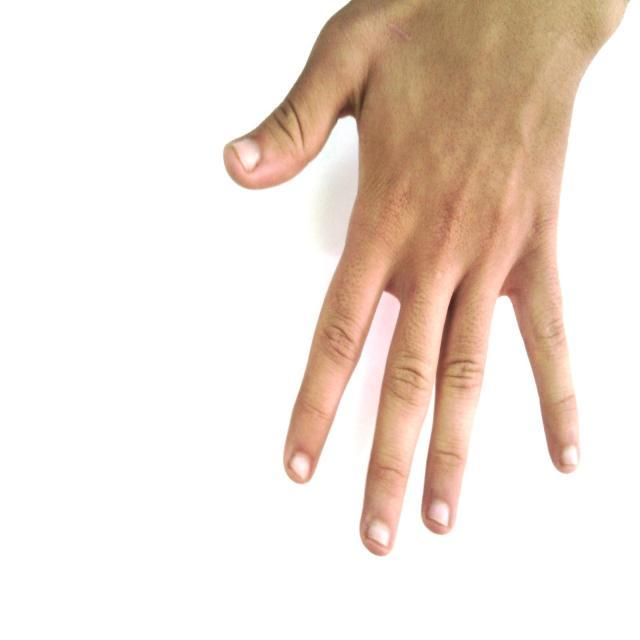Fingernail: (231, 136, 260, 170), (290, 452, 313, 480), (367, 521, 389, 546), (427, 499, 448, 525), (560, 446, 578, 464)
